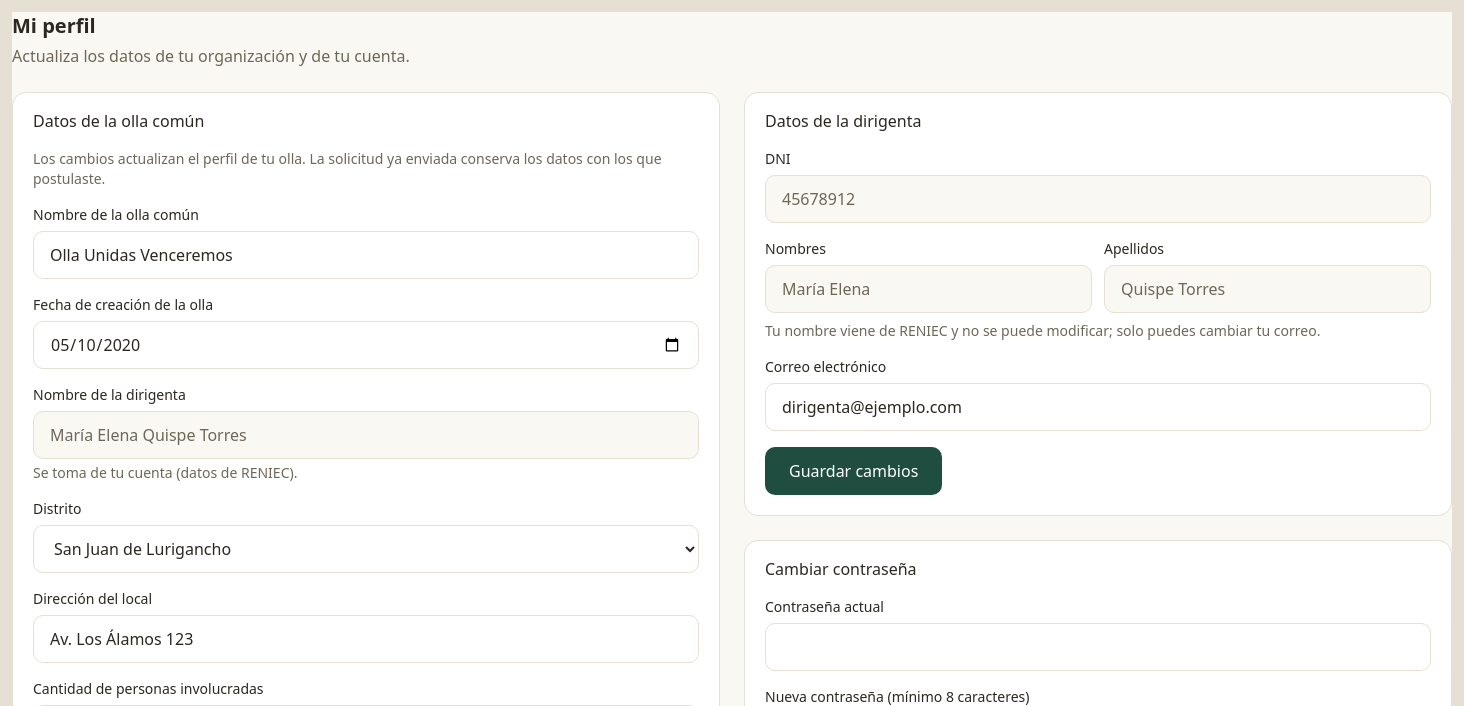
M10 · Perfil (PerfilPage) › Prueba 1 (éxito): actualiza el correo con PUT /usuarios/me y confirma el guardado
Replace the text in the field labelled "Correo electrónico" with "nuevo.correo@ejemplo.com" at (1098, 407), box x1=765 y1=383 x2=1431 y2=431
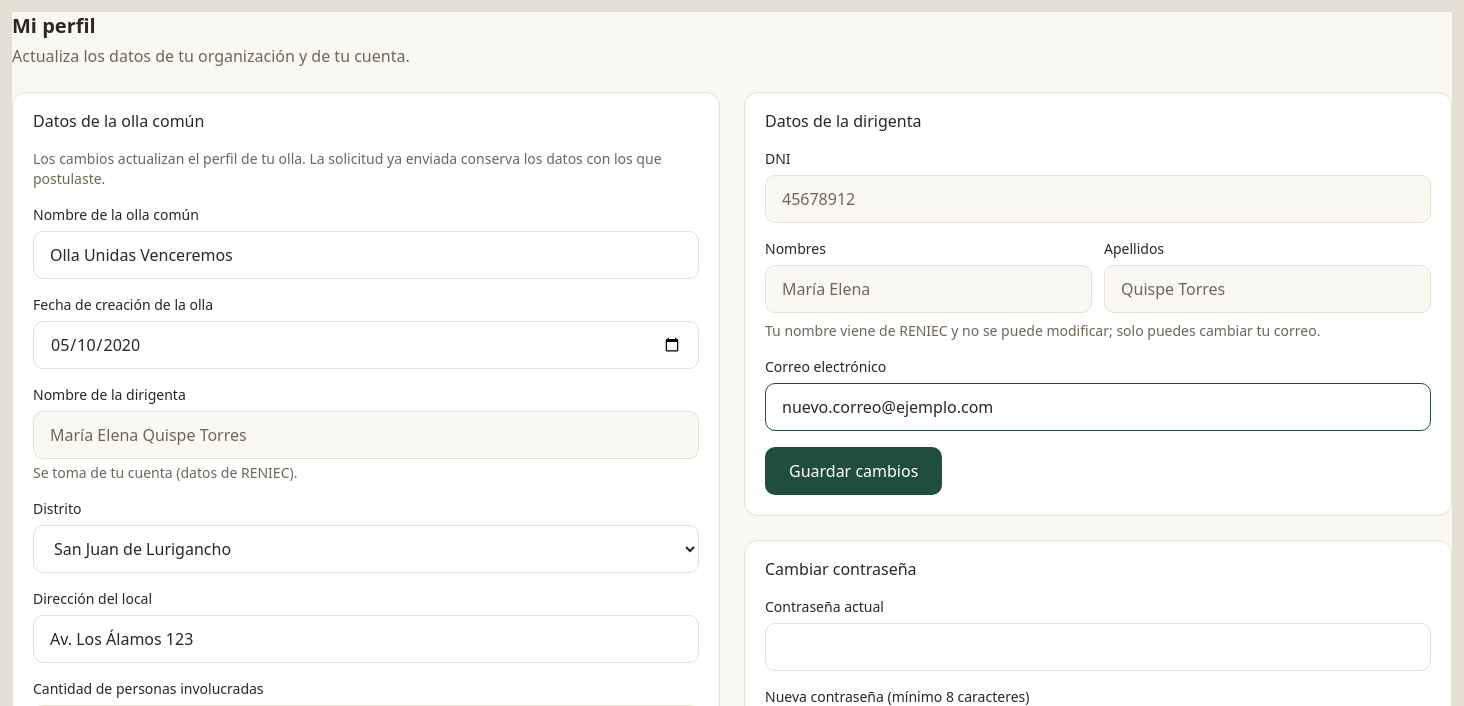
Click the button "Guardar cambios" at (854, 471), box x1=765 y1=447 x2=942 y2=495
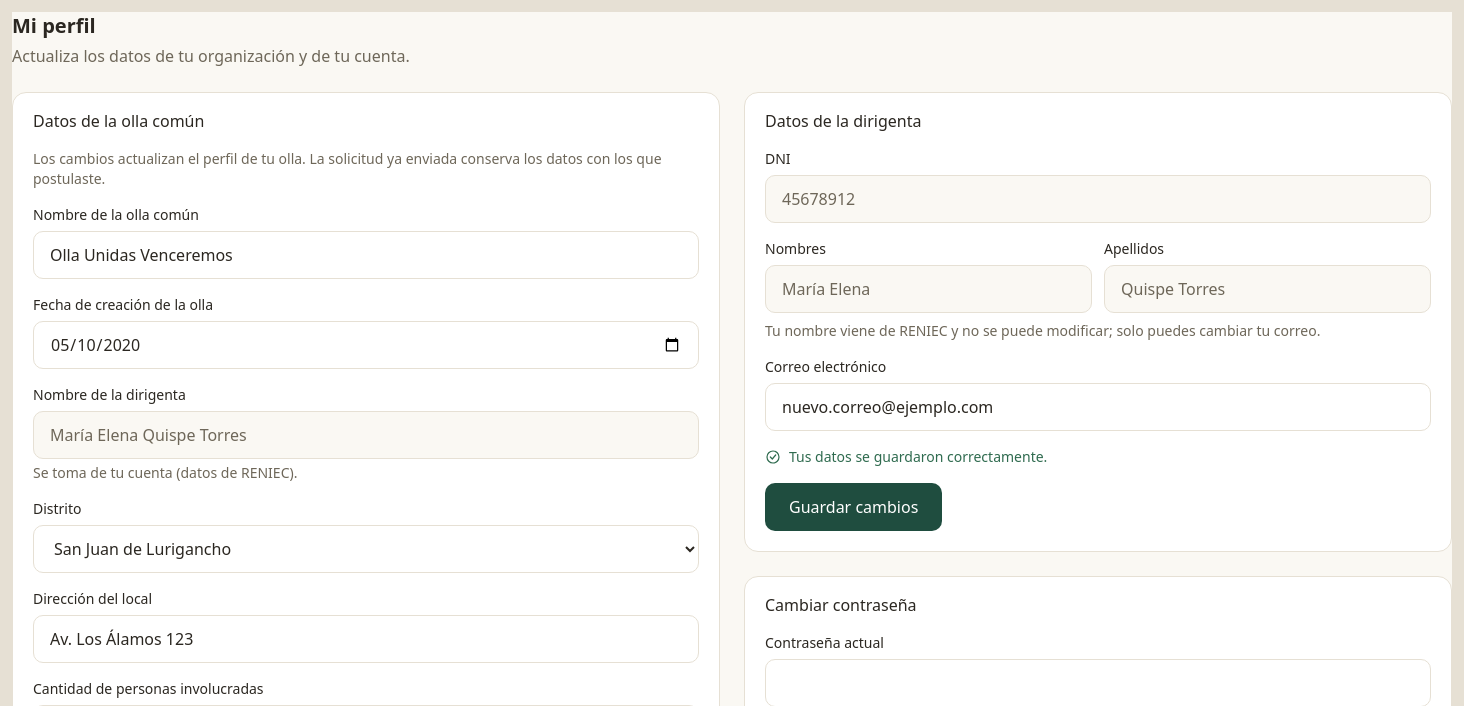
Now the text "Tus datos se guardaron correctamente." is shown, box x1=765 y1=447 x2=1047 y2=466
